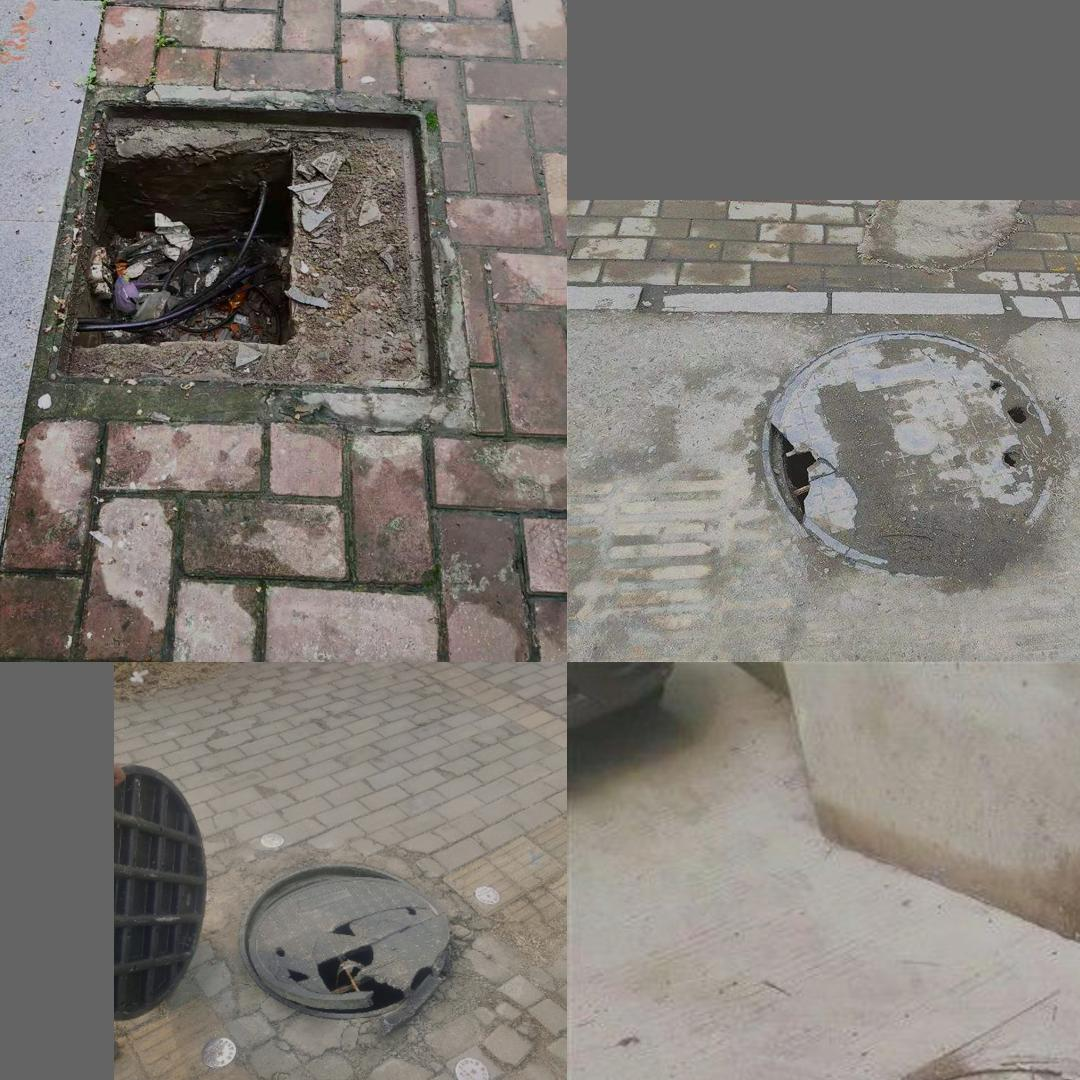broke: (39, 97, 452, 392), (758, 338, 1059, 569), (238, 861, 451, 1019), (760, 1035, 1080, 1080)
